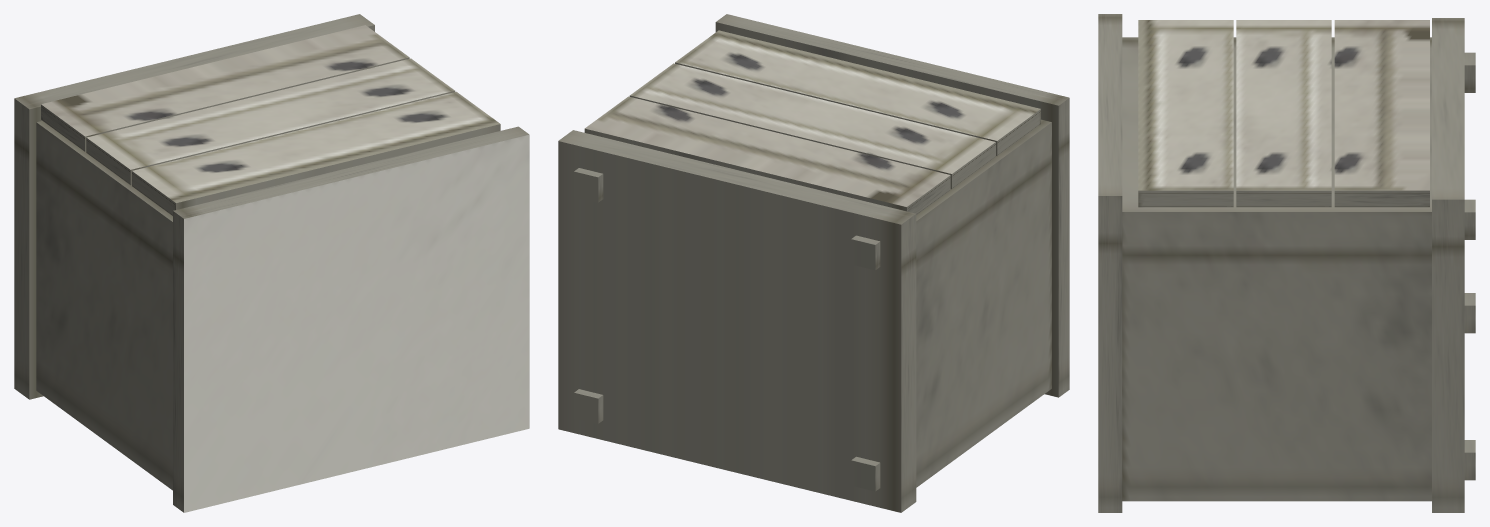
Rendered from pz_drawer_storage_01_fancy.obj.
The picture shows the model from 3 angles, left to right: view 1: azimuth 30°, elevation 25°; view 2: azimuth 150°, elevation 25°; view 3: azimuth 270°, elevation 25°; orthographic projection. The views are drawn at different scales.
Visible parts, largest first — view 1: root; view 2: root; view 3: root.
Part boxes in pixels (x1,y1,x2,y2): root: (14, 14, 529, 512); root: (558, 14, 1069, 512); root: (1098, 14, 1475, 512).
Size of the model in its own units: 0.99 by 0.805 by 0.8675.
1 material, 1 textured.
